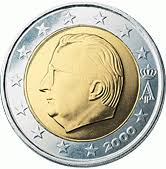eur002: (1, 1, 165, 169)
